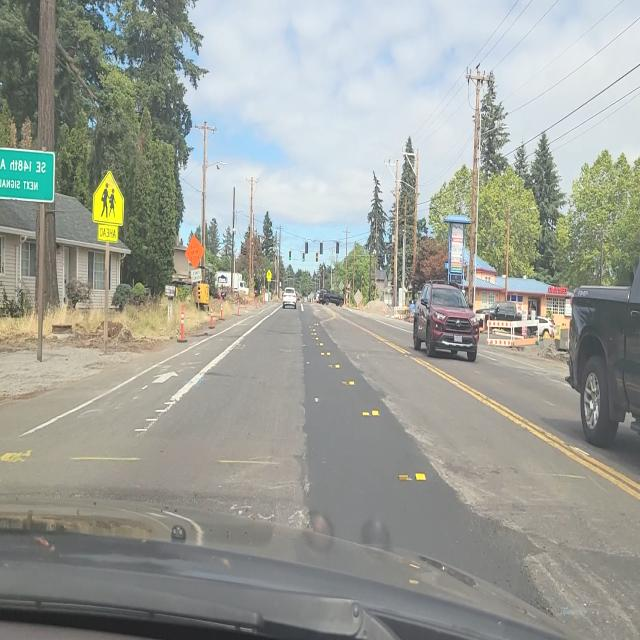car: (565, 250, 639, 451), (412, 280, 480, 361), (475, 302, 519, 334), (318, 290, 344, 306), (283, 287, 298, 310)
crosswalk-sign: (91, 170, 125, 242), (267, 270, 272, 282)
delineator: (178, 303, 188, 341), (209, 302, 215, 328), (219, 298, 225, 321), (237, 297, 241, 315), (244, 297, 248, 311), (255, 295, 259, 307)
